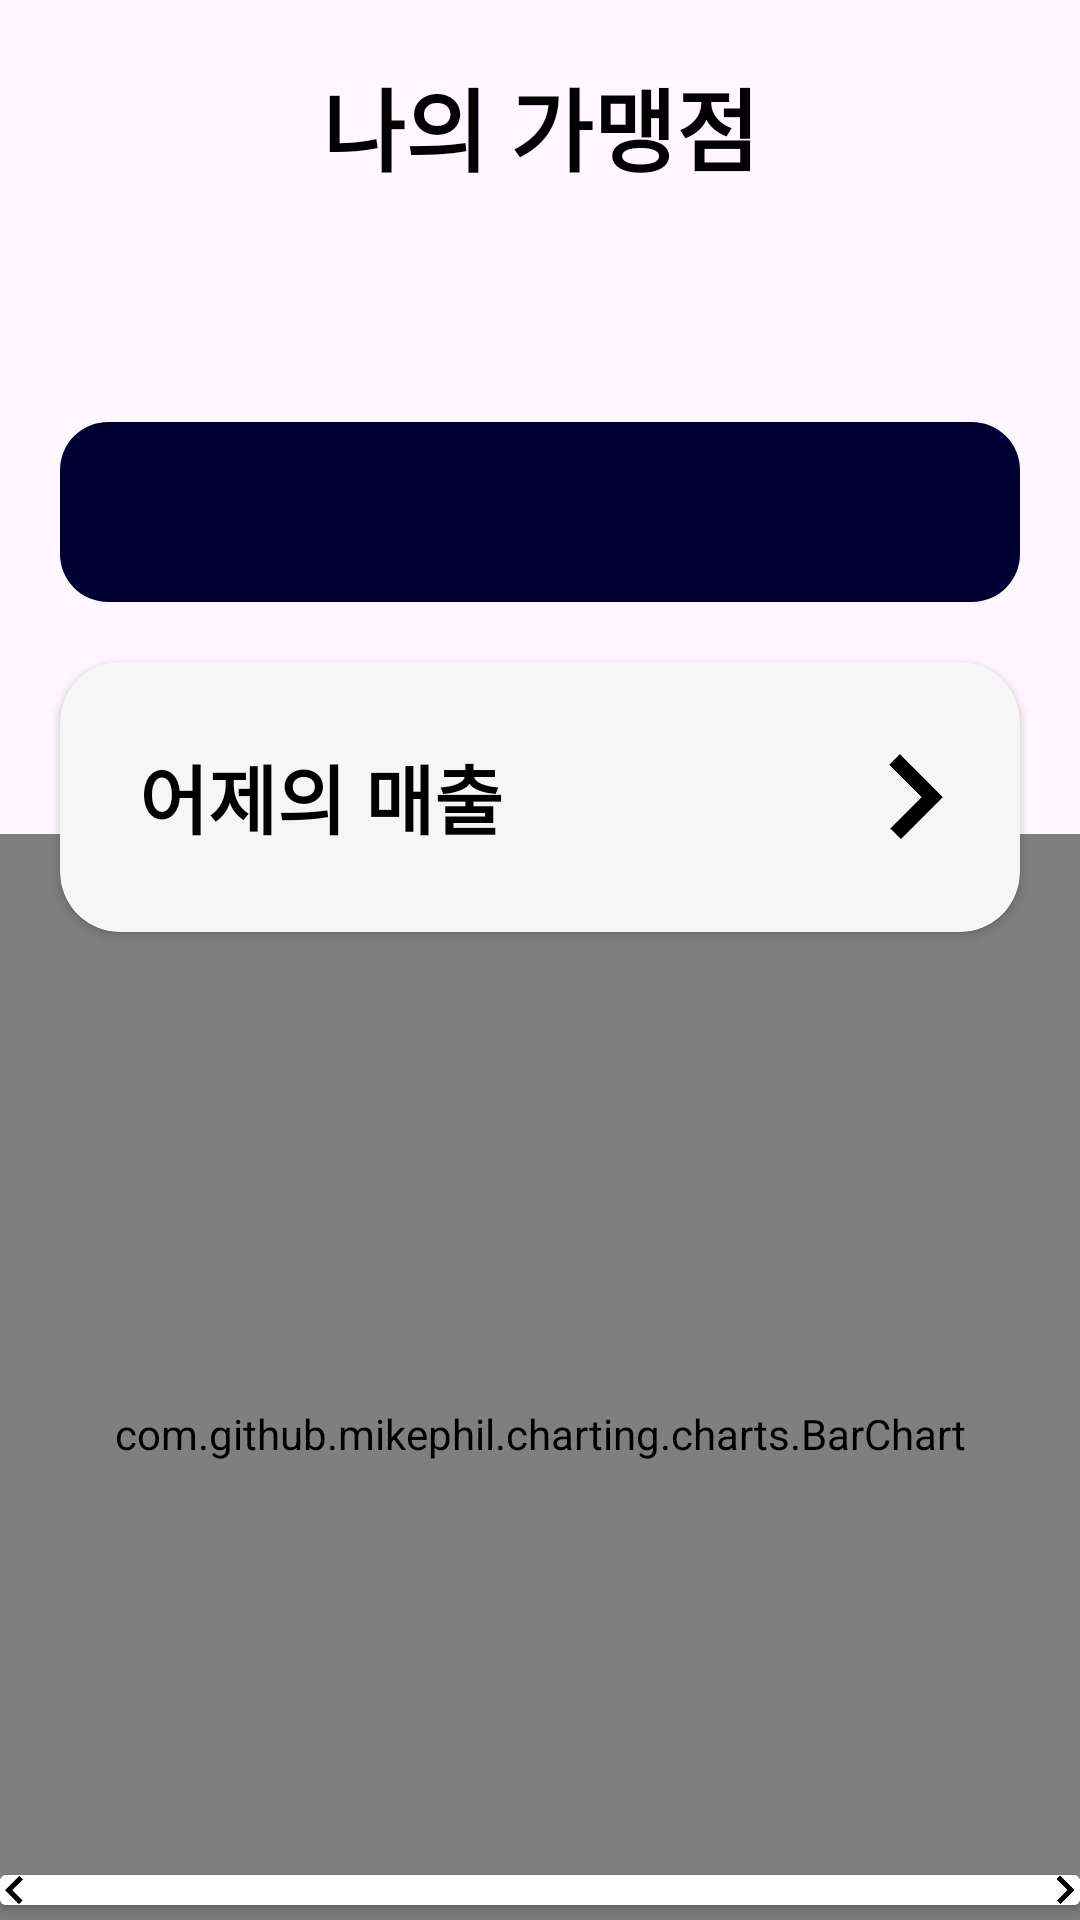

Where icons sit on this 1080px×1920px app screen, as (x1, y1, x2, y2):
back: (0, 1875, 30, 1905)
next: (889, 754, 943, 839), (1050, 1875, 1080, 1905)
